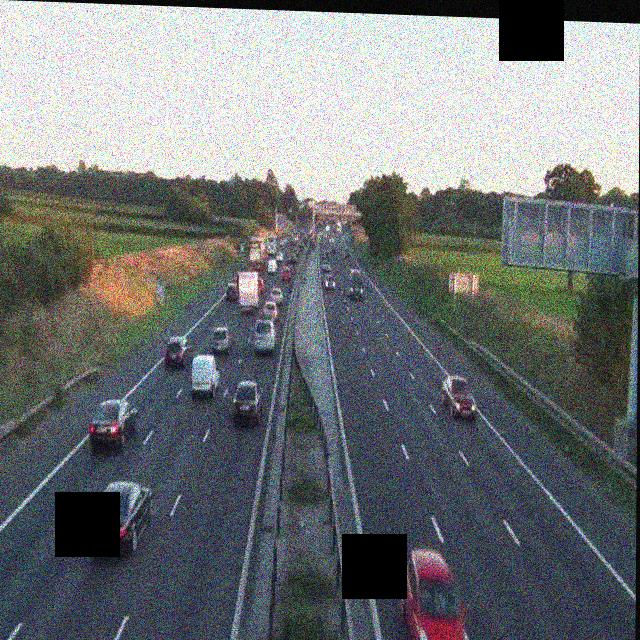car: (399, 547, 470, 640), (88, 480, 152, 560), (88, 397, 136, 453), (441, 375, 476, 421), (232, 381, 263, 426), (189, 354, 219, 399), (165, 334, 191, 367), (253, 320, 275, 355), (210, 326, 230, 355), (225, 279, 238, 300), (269, 288, 283, 307), (325, 274, 336, 291), (281, 267, 292, 283), (322, 258, 331, 273)
truck: (349, 268, 365, 301), (268, 252, 281, 275)
